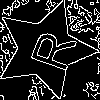R: (20, 24, 78, 74)
